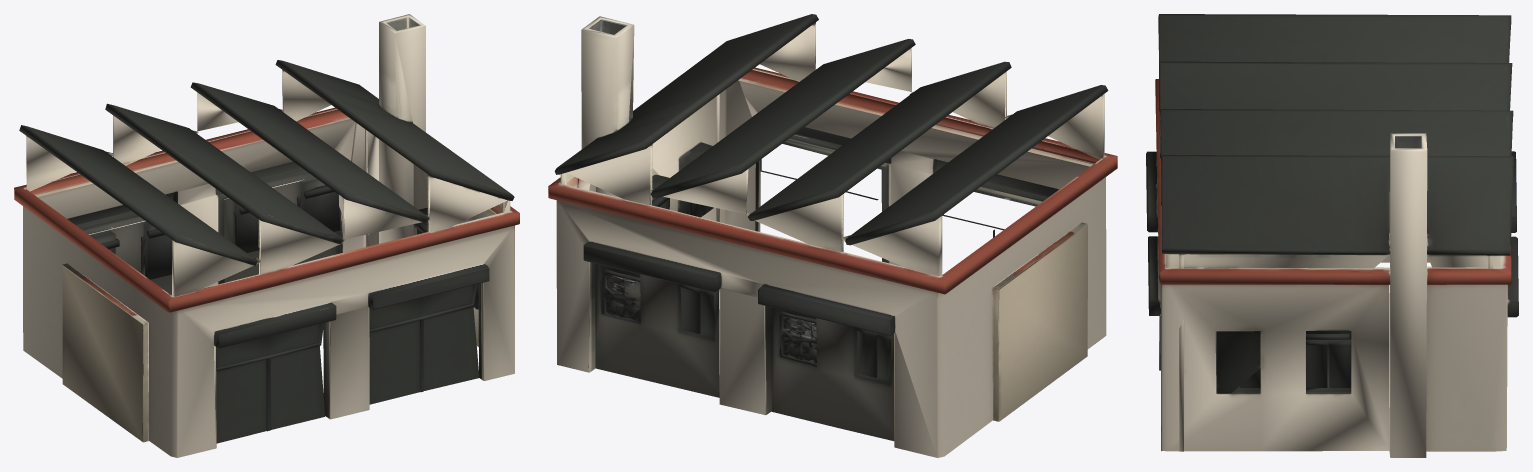
File: original_glb.glb
3 renders of one model, left to right at view 1: azimuth 30°, elevation 25°; view 2: azimuth 150°, elevation 25°; view 3: azimuth 270°, elevation 25°, orthographic. The views are drawn at different scales.
Parts seen in each view (by area): view 1: Ivory Sawtooth Workshop; view 2: Ivory Sawtooth Workshop; view 3: Ivory Sawtooth Workshop.
Boxes of the visible parts, x1,y1,x2,y2 form: Ivory Sawtooth Workshop: (14, 14, 519, 457); Ivory Sawtooth Workshop: (548, 14, 1117, 457); Ivory Sawtooth Workshop: (1146, 14, 1518, 457).
Size of the model in its own units: 0.998 by 0.7207 by 0.7871.
Materials: 1 (1 with a texture image).
